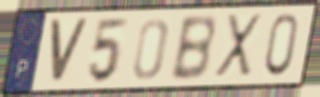0: (131, 17, 171, 82), (264, 12, 301, 79)
5: (87, 16, 131, 86)
B: (168, 13, 218, 83)
V: (48, 17, 91, 86)
X: (212, 11, 264, 80)
